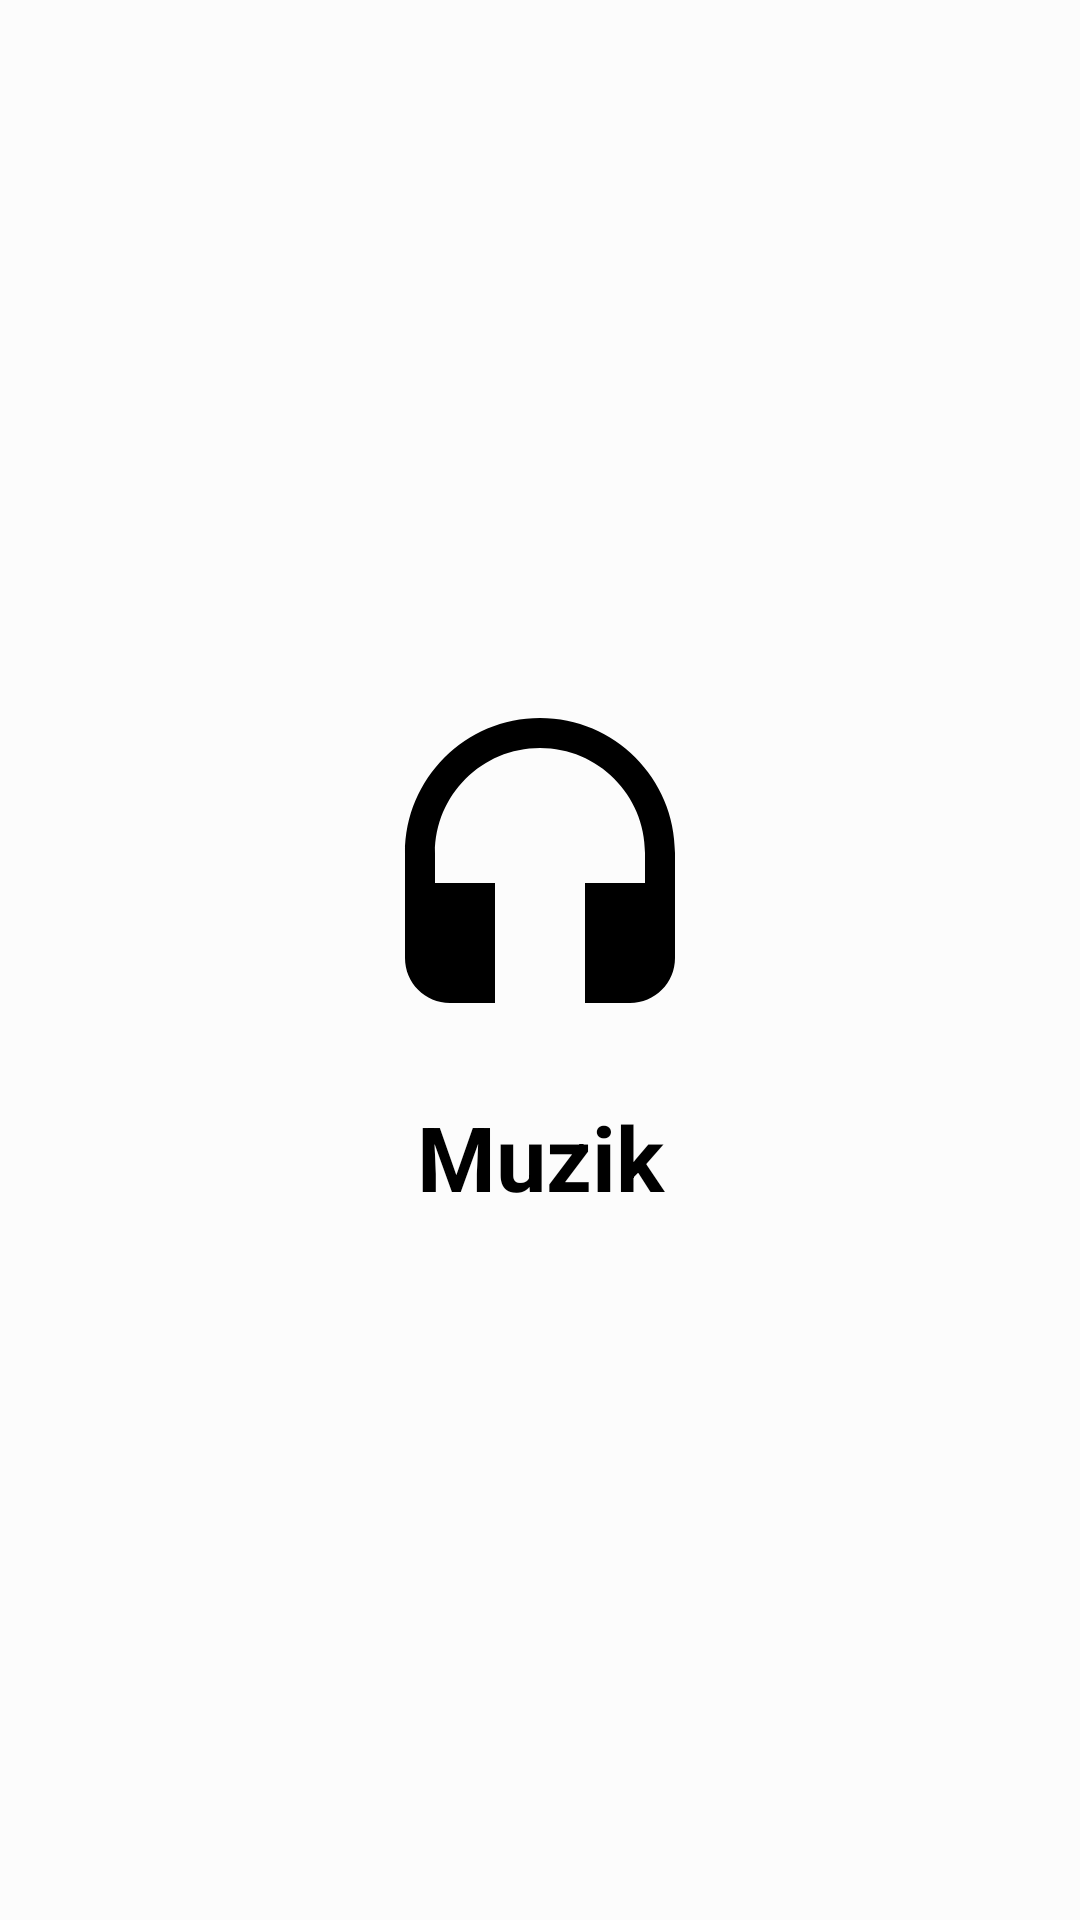

Named icons in this screenshot (1080×1920) and their centers, (x,y):
headset: (540,860)
